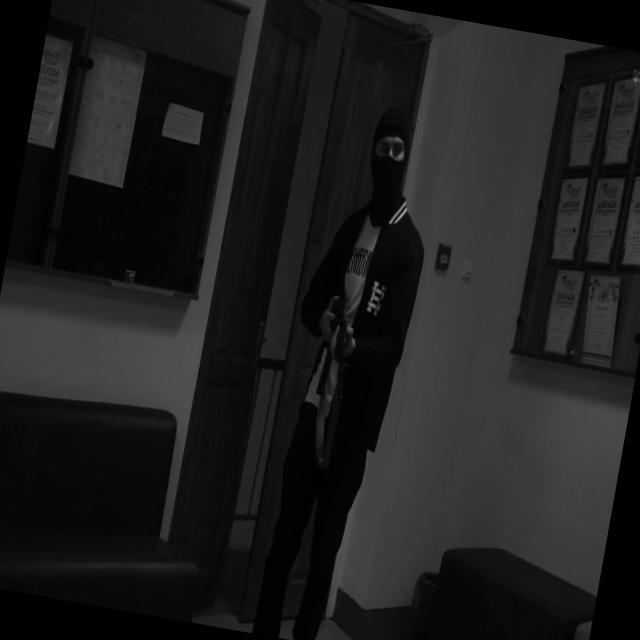gun: (309, 256, 368, 404)
person with a gun: (242, 95, 448, 640)
